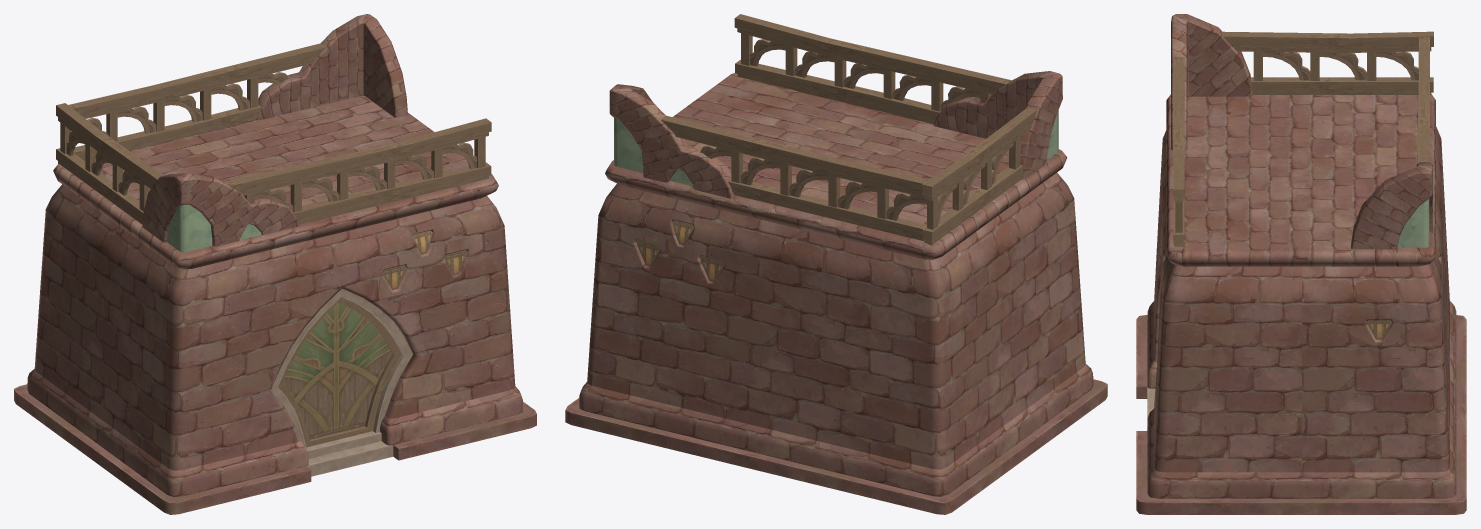
The model's file is Homeworld_Exterior_Xm_Build_Arvillage_04_Lod0.fbx.
3 views of the same model, side by side, from view 1: azimuth 30°, elevation 25°; view 2: azimuth 150°, elevation 25°; view 3: azimuth 270°, elevation 25° (orthographic). The views are drawn at different scales.
Visible parts, largest first — view 1: Area_Xm_Build_ARC_House_D_01_Lod0; view 2: Area_Xm_Build_ARC_House_D_01_Lod0; view 3: Area_Xm_Build_ARC_House_D_01_Lod0.
Part boxes in pixels (x1,y1,x2,y2): Area_Xm_Build_ARC_House_D_01_Lod0: (14,14,536,514); Area_Xm_Build_ARC_House_D_01_Lod0: (565,14,1107,514); Area_Xm_Build_ARC_House_D_01_Lod0: (1136,14,1466,514).
Bounding box in the file's own units: 7.96 × 6.48 × 5.91.
